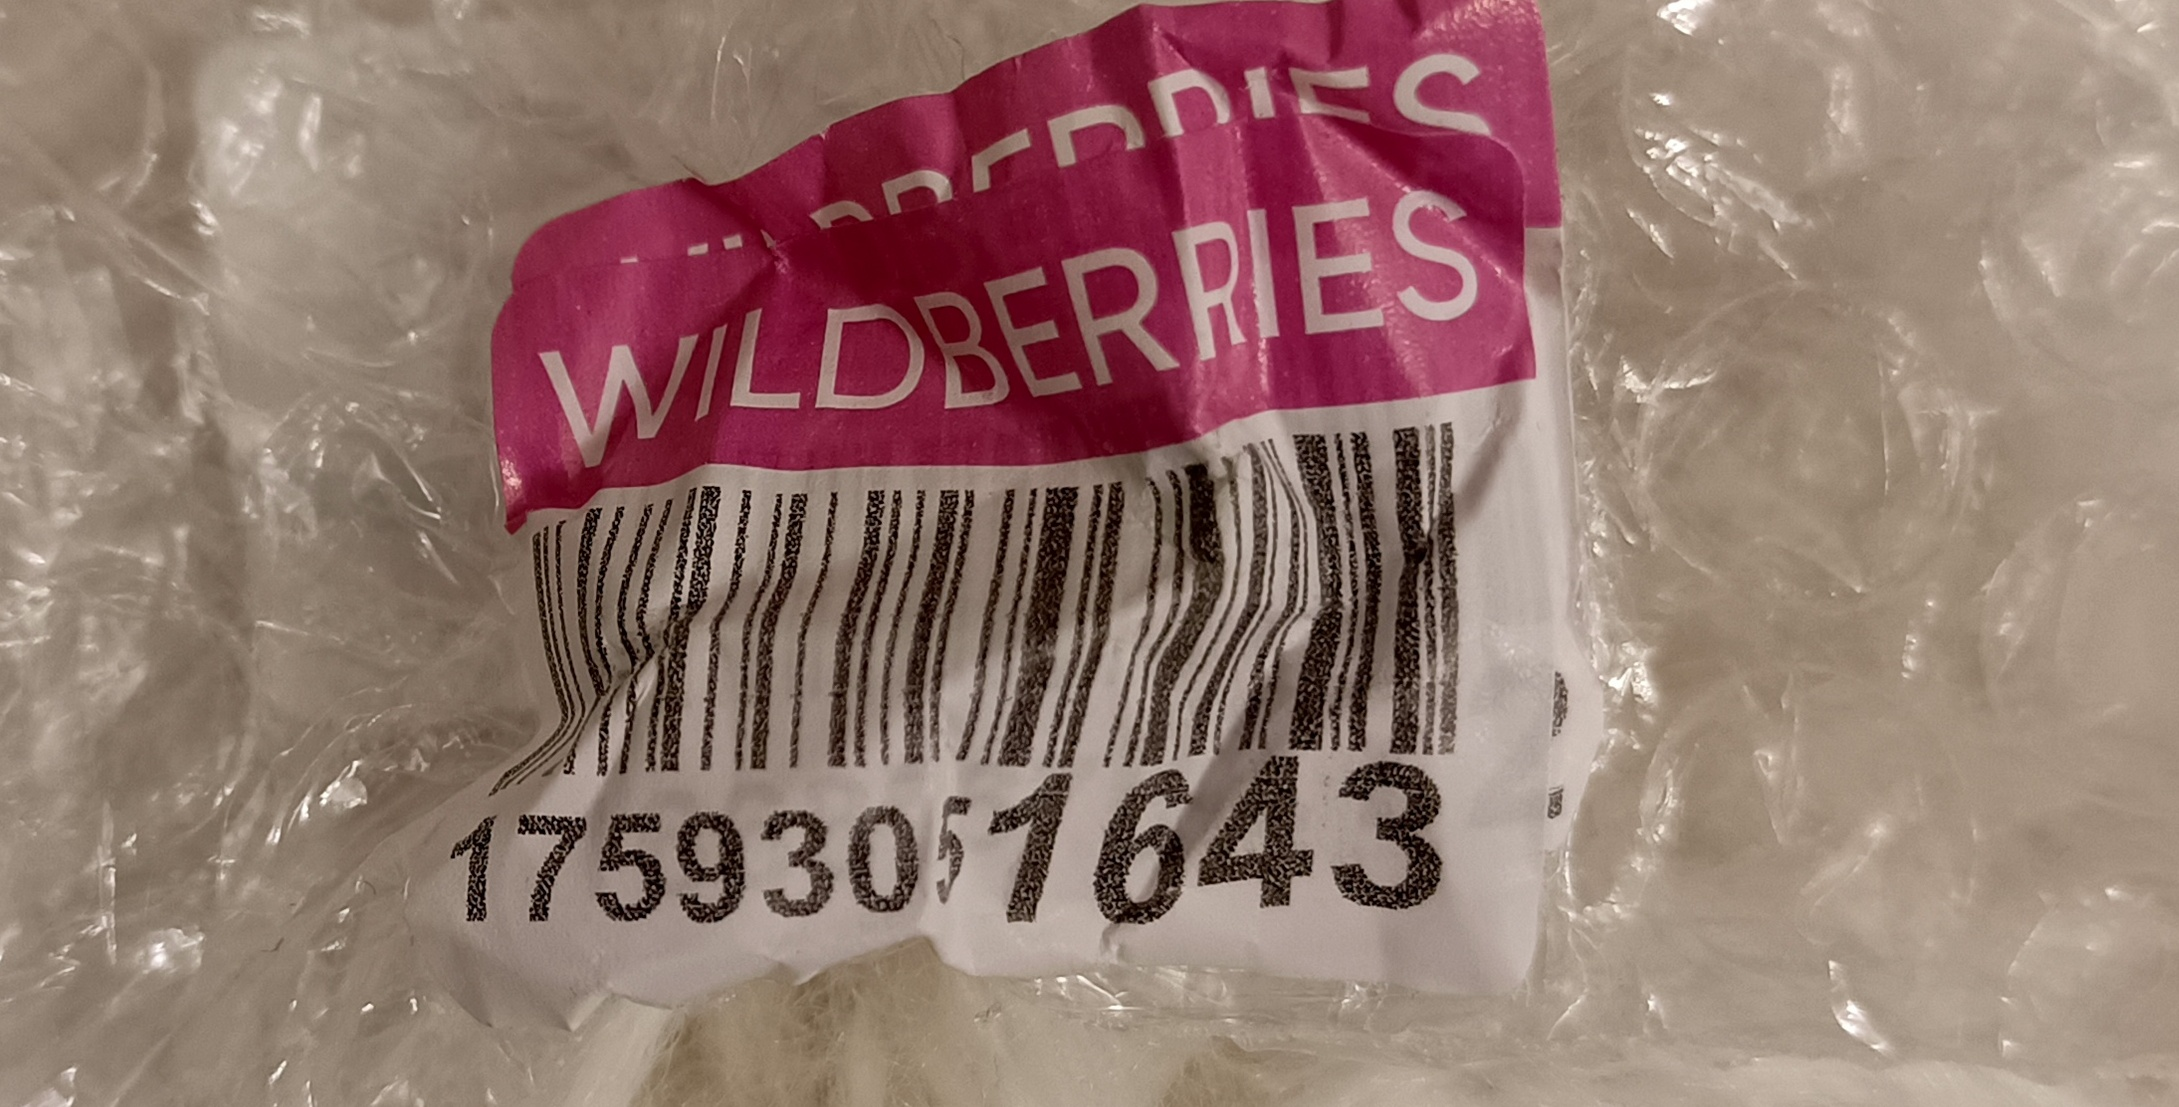1d: (491, 419, 1458, 791)
